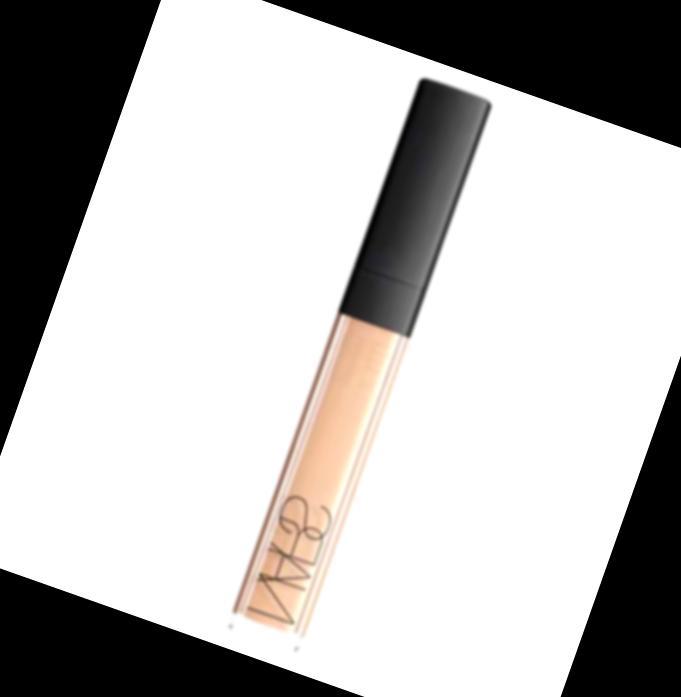cosmetic: (221, 76, 492, 657)
